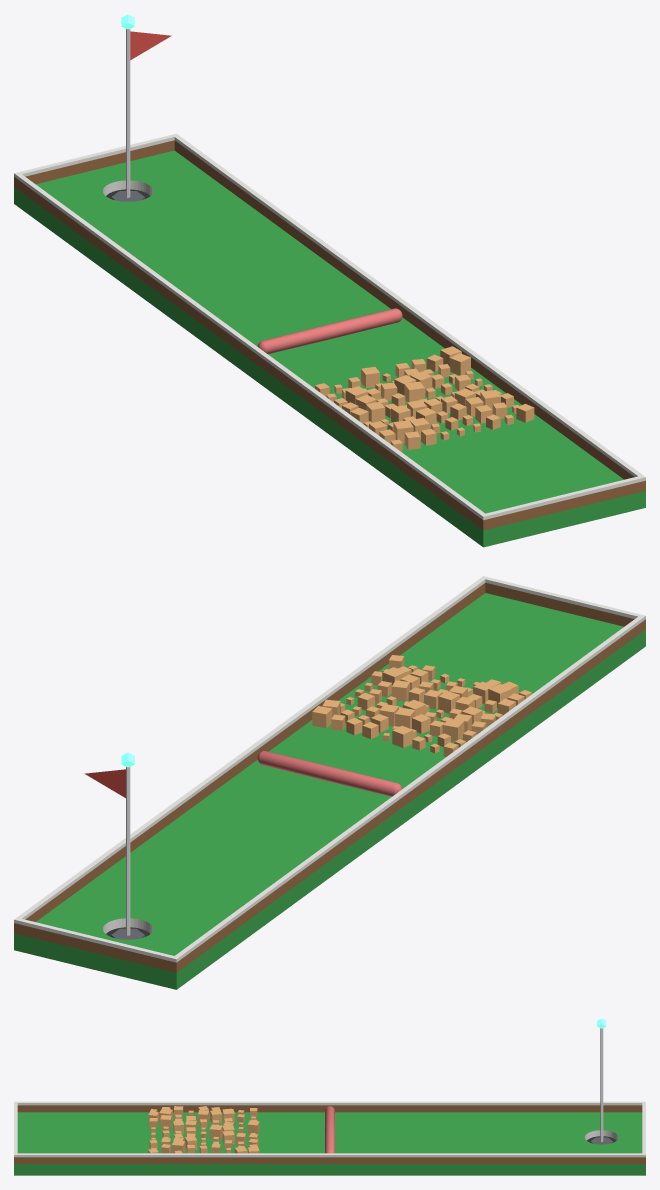
The model's file is level_01.glb.
3 renders of one model, top to bottom at view 1: azimuth 30°, elevation 25°; view 2: azimuth 150°, elevation 25°; view 3: azimuth 270°, elevation 25°, orthographic. The views are drawn at different scales.
Parts seen in each view (by area): view 1: Start_Floor, Straight_Floor, Finish_Floor, Spinner_Floor, CubePilePreview_Cubes, CubePile_Floor, Start_Rails, Finish_Rails, Start_RailCap, Finish_RailCap, SpinnerPreview_Arm, Straight_Rails (+6 smaller); view 2: Finish_Floor, Straight_Floor, Start_Floor, Spinner_Floor, CubePilePreview_Cubes, CubePile_Floor, Finish_Rails, Start_Rails, Finish_RailCap, Start_RailCap, SpinnerPreview_Arm, Spinner_Rails (+7 smaller); view 3: Straight_Floor, Start_Floor, Finish_Floor, Spinner_Floor, CubePilePreview_Cubes, CubePile_Floor, Straight_Rails, Start_Rails, Spinner_Rails, Finish_Rails, CubePile_Rails, Start_RailCap (+6 smaller).
Boxes of the visible parts, x1=… form: Start_Floor: x1=389, y1=423, x2=645, y2=547; Straight_Floor: x1=108, y1=217, x2=358, y2=340; Finish_Floor: x1=14, y1=150, x2=264, y2=272; Spinner_Floor: x1=201, y1=286, x2=444, y2=409; CubePilePreview_Cubes: x1=315, y1=346, x2=534, y2=451; CubePile_Floor: x1=295, y1=361, x2=546, y2=478; Start_Rails: x1=389, y1=413, x2=645, y2=530; Finish_Rails: x1=14, y1=140, x2=265, y2=255; Start_RailCap: x1=389, y1=408, x2=645, y2=520; Finish_RailCap: x1=14, y1=133, x2=269, y2=244; SpinnerPreview_Arm: x1=257, y1=308, x2=402, y2=354; Straight_Rails: x1=108, y1=207, x2=359, y2=323; Finish_Floor: x1=14, y1=866, x2=270, y2=989; Straight_Floor: x1=113, y1=797, x2=364, y2=920; Start_Floor: x1=400, y1=593, x2=645, y2=714; Spinner_Floor: x1=207, y1=728, x2=458, y2=852; CubePilePreview_Cubes: x1=312, y1=655, x2=531, y2=756; CubePile_Floor: x1=301, y1=662, x2=551, y2=783; Finish_Rails: x1=14, y1=856, x2=270, y2=972; Start_Rails: x1=394, y1=582, x2=645, y2=697; Finish_RailCap: x1=14, y1=851, x2=270, y2=962; Start_RailCap: x1=390, y1=576, x2=645, y2=687; SpinnerPreview_Arm: x1=257, y1=751, x2=402, y2=796; Spinner_Rails: x1=206, y1=718, x2=458, y2=834; Straight_Floor: x1=393, y1=1112, x2=519, y2=1175; Start_Floor: x1=14, y1=1112, x2=140, y2=1175; Finish_Floor: x1=519, y1=1112, x2=645, y2=1175; Spinner_Floor: x1=266, y1=1112, x2=393, y2=1175; CubePilePreview_Cubes: x1=148, y1=1106, x2=259, y2=1153; CubePile_Floor: x1=140, y1=1112, x2=266, y2=1175; Straight_Rails: x1=393, y1=1105, x2=519, y2=1163; Start_Rails: x1=14, y1=1105, x2=140, y2=1163; Spinner_Rails: x1=266, y1=1105, x2=393, y2=1163; Finish_Rails: x1=519, y1=1105, x2=645, y2=1163; CubePile_Rails: x1=140, y1=1105, x2=266, y2=1163; Start_RailCap: x1=14, y1=1101, x2=140, y2=1157.
Size of what is drawn, in the model's own units: 10 by 11.38 by 50.
